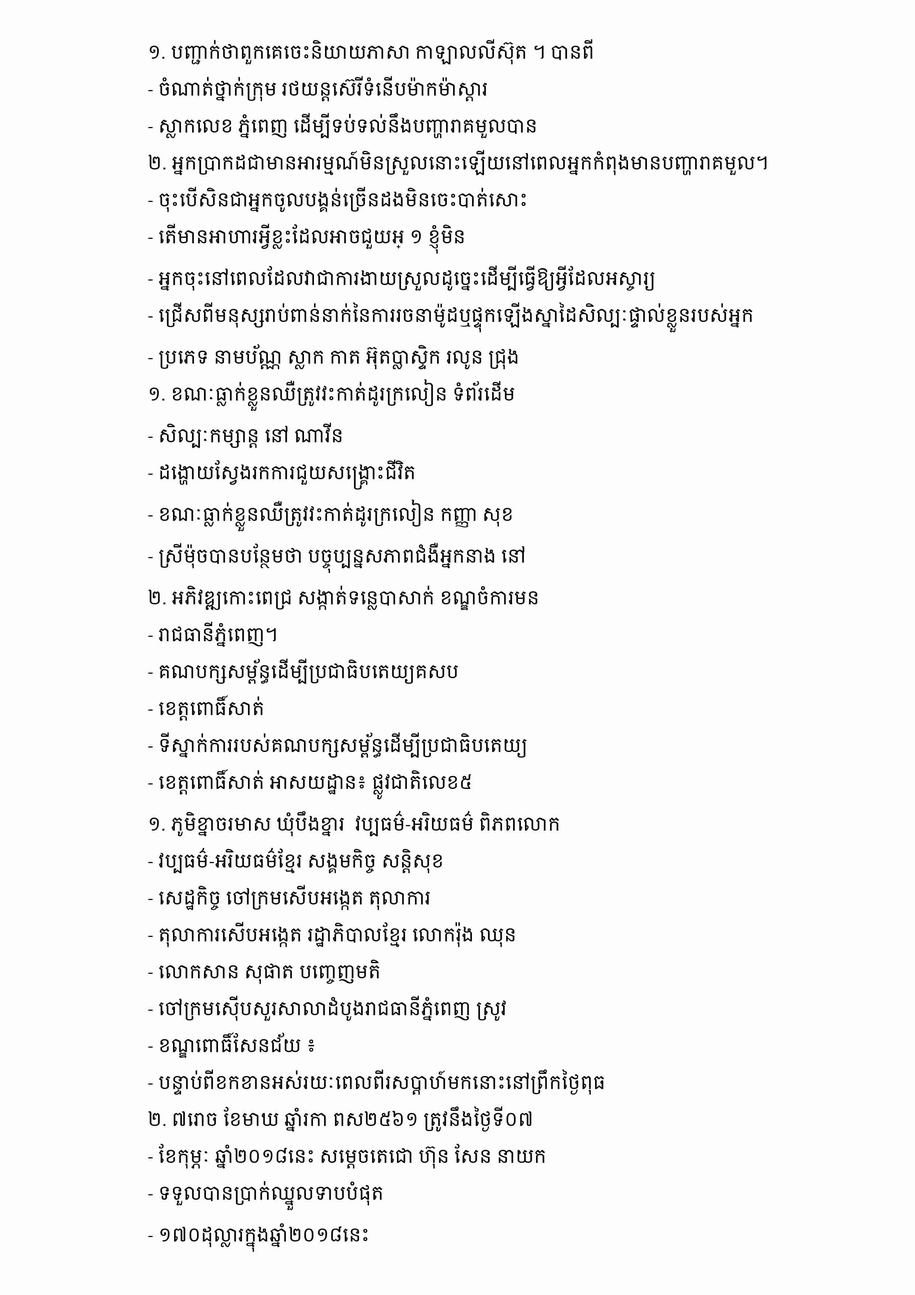text: (148, 302, 759, 333), (148, 150, 774, 175), (148, 265, 660, 291), (148, 499, 518, 532), (148, 1069, 610, 1095), (148, 379, 520, 411), (148, 39, 599, 65), (148, 543, 531, 573), (148, 811, 565, 837), (148, 769, 477, 800), (148, 1106, 538, 1132), (148, 1144, 552, 1169), (148, 732, 532, 758), (148, 585, 544, 610), (148, 113, 542, 138), (148, 344, 524, 370), (148, 224, 471, 254), (148, 187, 532, 212), (148, 922, 522, 947), (148, 996, 512, 1021), (148, 76, 493, 102), (148, 460, 421, 490), (148, 659, 464, 684), (148, 848, 449, 873), (148, 885, 436, 910), (148, 1181, 389, 1210), (148, 1223, 374, 1252), (148, 959, 386, 984), (148, 423, 348, 448), (148, 1032, 321, 1058), (148, 622, 283, 647), (148, 695, 269, 721)
